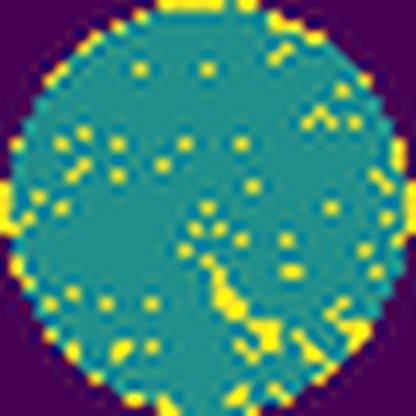Loc: (200, 254, 284, 363)
